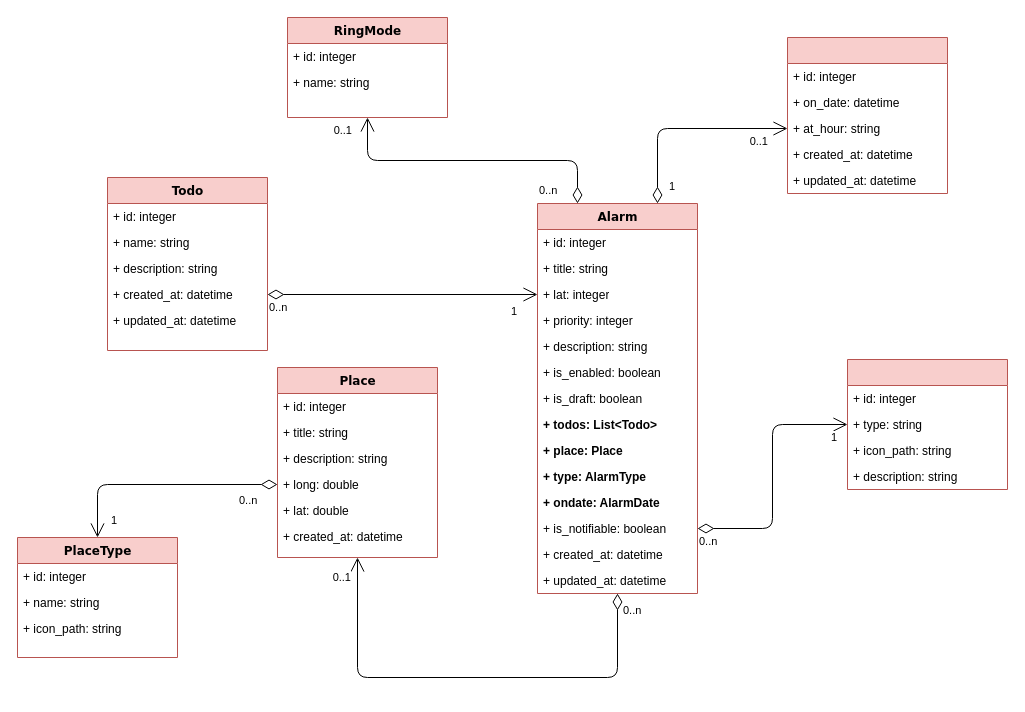
Some shapes in this 1025 by 712 pixel diagram are drawn without their labels. The shapes that lost their labels are listed below. From the top down, each one's box as (x1, y1, x2, y2) in pixels, then its label:
(786, 36, 948, 194): AlarmDate
(846, 358, 1008, 490): AlarmType
